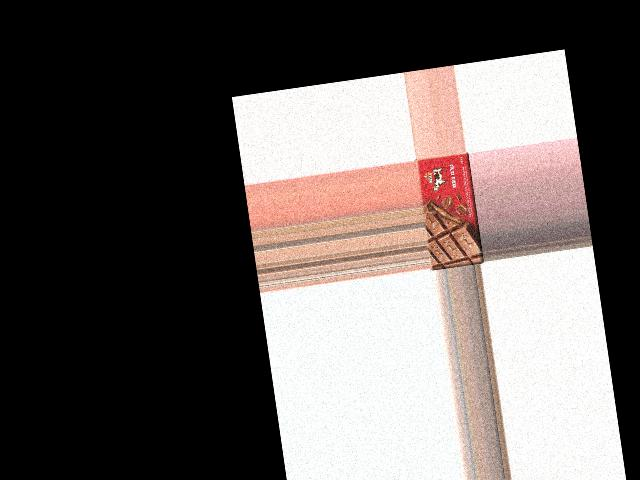chocolate: (414, 151, 483, 269)
